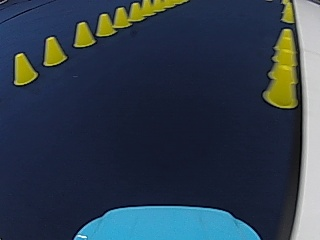cone: (264, 29, 300, 108), (12, 52, 37, 85), (42, 35, 67, 66), (275, 28, 297, 60), (72, 21, 95, 47), (95, 13, 114, 36), (112, 6, 129, 28), (127, 2, 143, 21), (280, 1, 294, 22), (140, 0, 151, 16)
